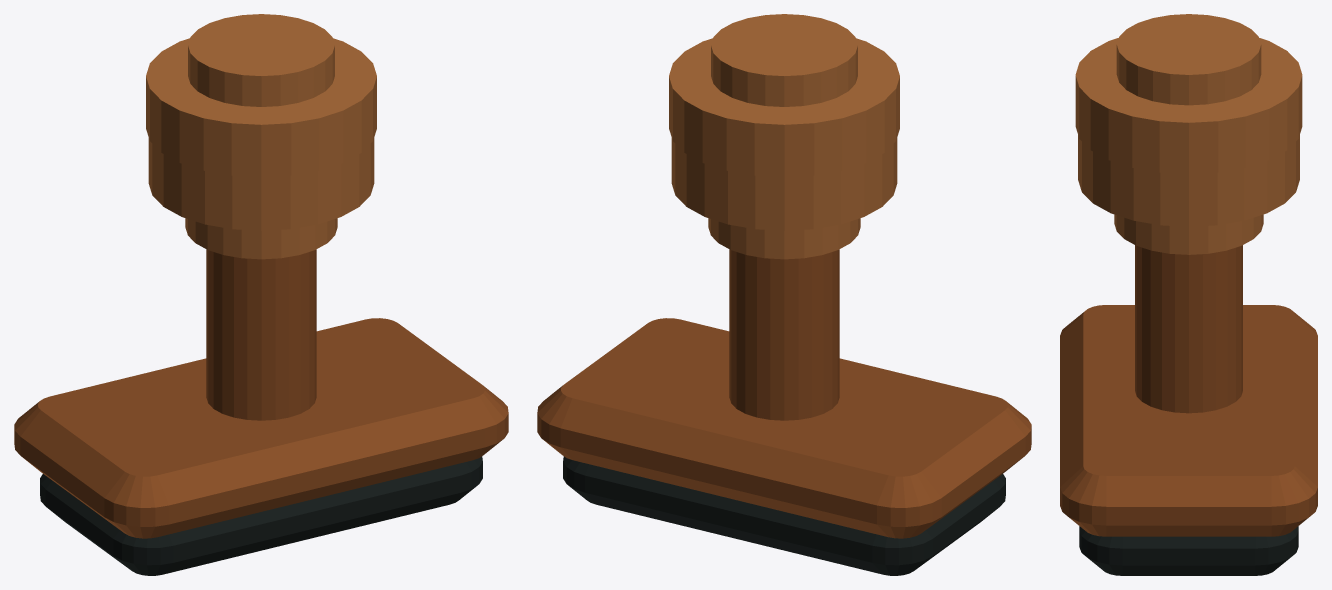
Rendered from desk_stamp.obj.
3 renders of one model, left to right at view 1: azimuth 30°, elevation 25°; view 2: azimuth 150°, elevation 25°; view 3: azimuth 270°, elevation 25°, orthographic.
Visible parts, largest first — view 1: stamp_base, stamp_handle, stamp_neck, stamp_rubber; view 2: stamp_base, stamp_handle, stamp_neck, stamp_rubber; view 3: stamp_base, stamp_handle, stamp_neck, stamp_rubber.
Boxes of the visible parts, bbox=[...] form: stamp_base: bbox=[14, 318, 508, 538]; stamp_handle: bbox=[146, 14, 376, 259]; stamp_neck: bbox=[206, 249, 316, 420]; stamp_rubber: bbox=[40, 456, 482, 575]; stamp_base: bbox=[537, 318, 1031, 538]; stamp_handle: bbox=[669, 14, 899, 259]; stamp_neck: bbox=[729, 249, 839, 420]; stamp_rubber: bbox=[563, 456, 1005, 575]; stamp_base: bbox=[1060, 305, 1317, 536]; stamp_handle: bbox=[1075, 14, 1302, 254]; stamp_neck: bbox=[1135, 245, 1242, 413]; stamp_rubber: bbox=[1079, 526, 1298, 575].
Size of the model in its own units: 0.175 by 0.194 by 0.1.
